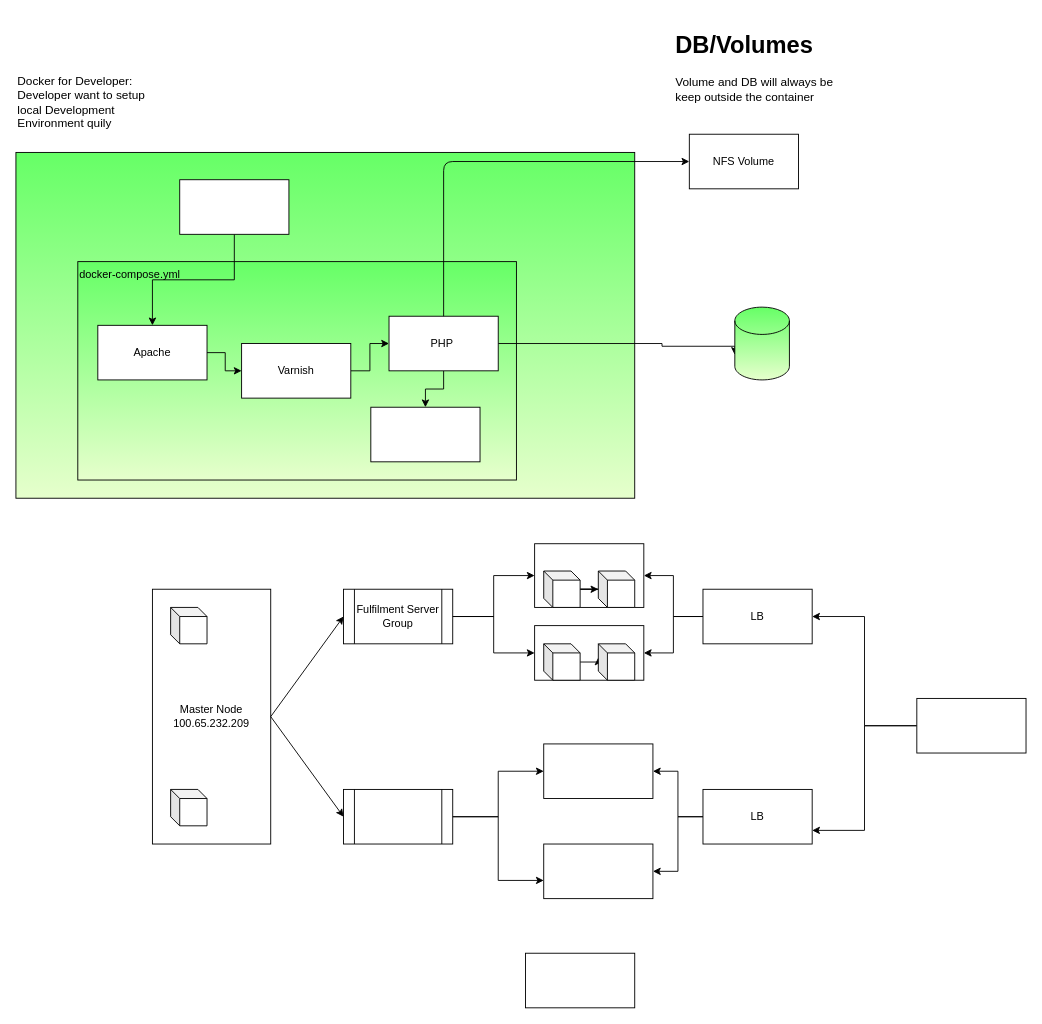
This 1042x1024 diagram has some shape labels left out. The centre of each missing label's shape, as x and y in pixels:
Contract Server Group: the point at 398,816
MySQL: the point at 761,343
Nginx: the point at 971,725
Redis: the point at 425,434
Reverse Proxy: the point at 234,206
